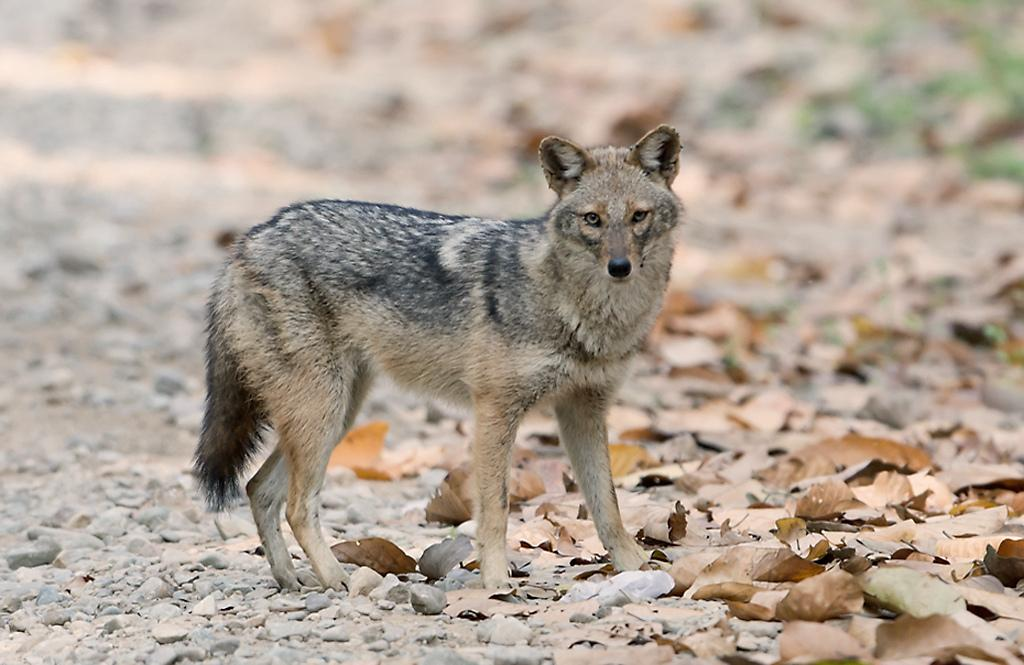Wolf: (197, 123, 682, 594)
